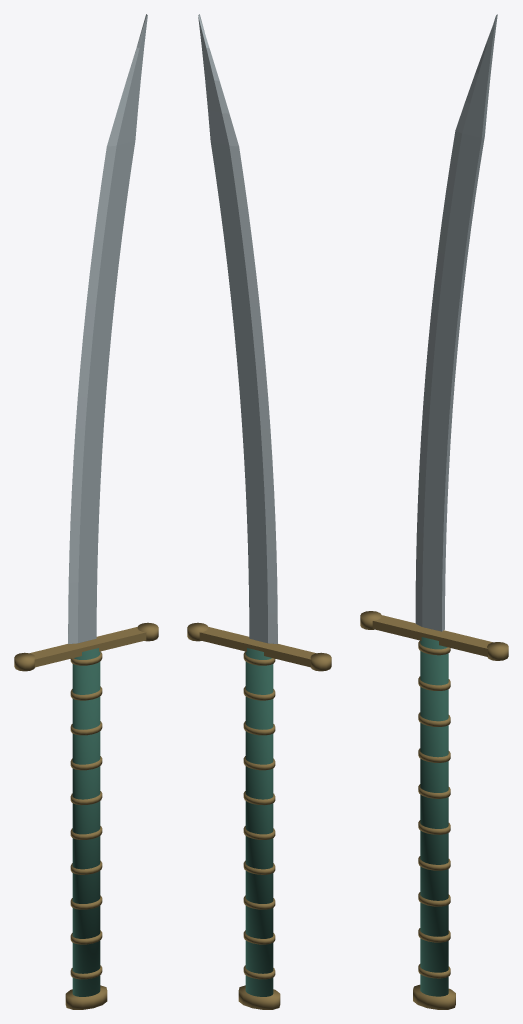
File: nodachi-cleaver.fbx
The picture shows the model from 3 angles, left to right: view 1: azimuth 30°, elevation 25°; view 2: azimuth 150°, elevation 25°; view 3: azimuth 330°, elevation 25°; orthographic projection. The views are drawn at different scales.
Parts seen in each view (by area): view 1: NodachiCleaverBlade, NodachiCleaverHandle, NodachiCleaverGuardBar, NodachiCleaverPommelCap, NodachiCleaverGuardCap-1; view 2: NodachiCleaverBlade, NodachiCleaverHandle, NodachiCleaverGuardBar, NodachiCleaverPommelCap, NodachiCleaverGuardCap-1; view 3: NodachiCleaverBlade, NodachiCleaverHandle, NodachiCleaverGuardBar, NodachiCleaverPommelCap, NodachiCleaverGuardCap1.
Boxes of the visible parts, x1,y1,x2,y2 form: NodachiCleaverBlade: (68, 14, 147, 644); NodachiCleaverHandle: (72, 648, 100, 996); NodachiCleaverGuardBar: (30, 627, 146, 667); NodachiCleaverPommelCap: (65, 985, 107, 1009); NodachiCleaverGuardCap-1: (14, 652, 35, 671); NodachiCleaverBlade: (198, 14, 277, 644); NodachiCleaverHandle: (245, 648, 273, 996); NodachiCleaverGuardBar: (199, 627, 315, 667); NodachiCleaverPommelCap: (238, 985, 280, 1009); NodachiCleaverGuardCap-1: (310, 652, 331, 671); NodachiCleaverBlade: (415, 14, 497, 631); NodachiCleaverHandle: (420, 637, 448, 996); NodachiCleaverGuardBar: (372, 615, 492, 656); NodachiCleaverPommelCap: (413, 984, 455, 1009); NodachiCleaverGuardCap1: (487, 642, 508, 660).
Size of the model in its own units: 0.2418 by 1.59 by 0.0423.
